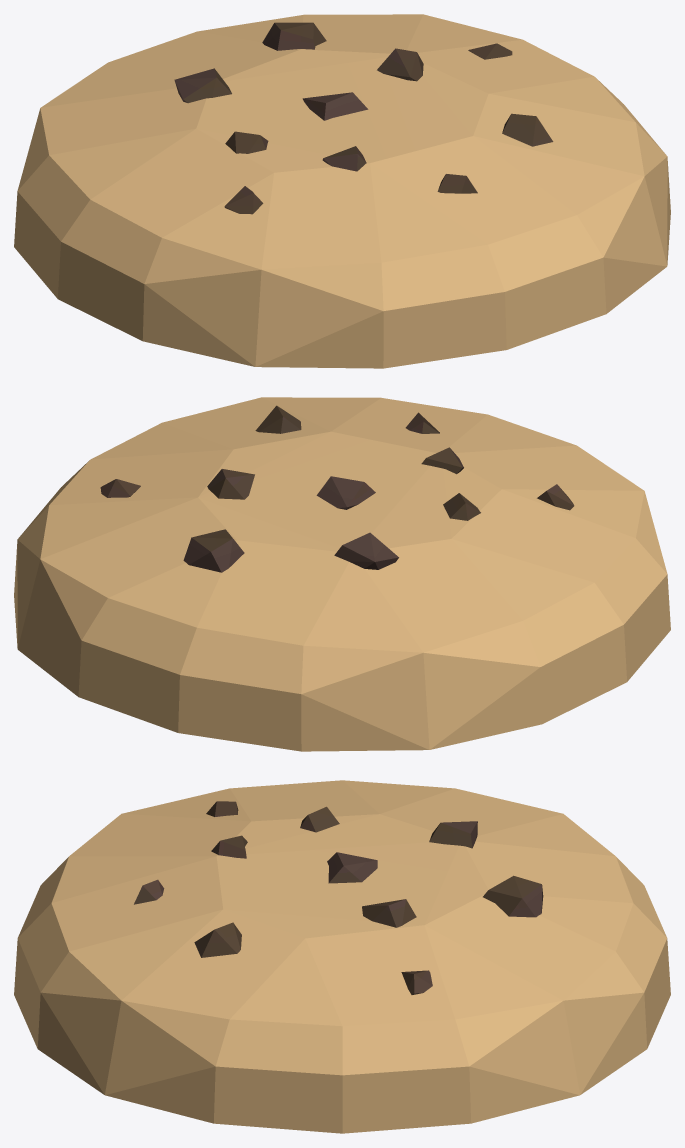
File: cookie.fbx
The picture shows the model from 3 angles, top to bottom: view 1: azimuth 30°, elevation 25°; view 2: azimuth 150°, elevation 25°; view 3: azimuth 270°, elevation 25°; orthographic projection.
Visible parts, largest first — view 1: Cube.003_Cube.025; view 2: Cube.003_Cube.025; view 3: Cube.003_Cube.025.
Part boxes in pixels (x1,y1,x2,y2): Cube.003_Cube.025: (14, 14, 670, 368); Cube.003_Cube.025: (14, 397, 670, 751); Cube.003_Cube.025: (14, 780, 670, 1133).
Size of the model in its own units: 138 by 31.72 by 138.
